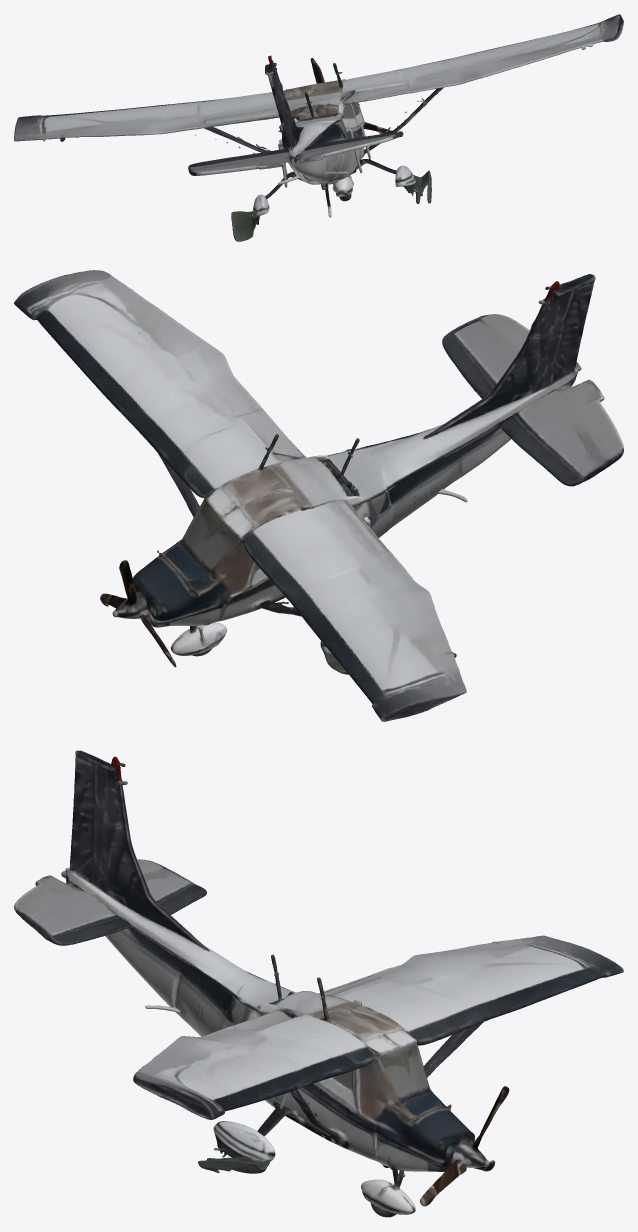
File: pixal3d.glb
3 views of the same model, one above another, from view 1: azimuth 30°, elevation 25°; view 2: azimuth 150°, elevation 25°; view 3: azimuth 270°, elevation 25° (orthographic). The views are drawn at different scales.
Visible parts, largest first — view 1: world; view 2: world; view 3: world.
Part boxes in pixels (x1,y1,x2,y2): world: (14, 14, 623, 241); world: (14, 270, 623, 721); world: (14, 750, 623, 1217).
Bounding box in the file's own units: 0.7976 × 0.4151 × 0.6653.
1 material, 1 textured.
